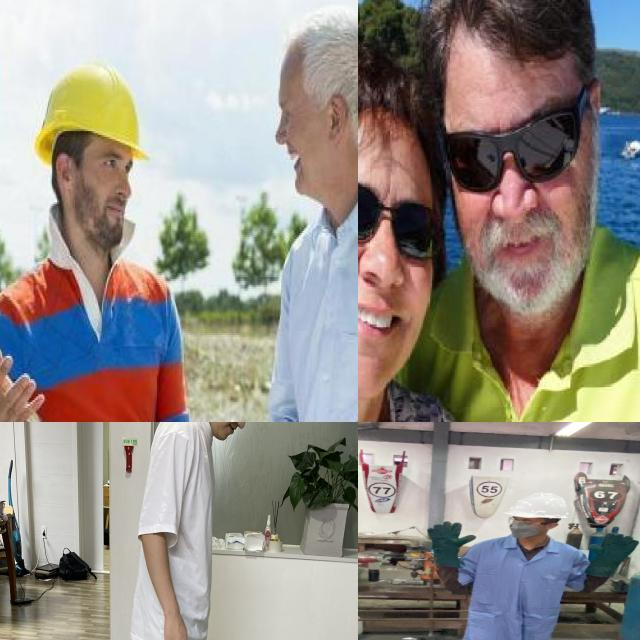No_Ear-Protection: (326, 91, 352, 145), (54, 153, 75, 191)
No_Glasses: (92, 149, 136, 179), (271, 96, 309, 127)
face_mask: (507, 514, 551, 541)
face_nomask: (444, 116, 580, 264), (358, 171, 423, 349), (272, 95, 329, 189), (90, 147, 138, 232)
glasses: (439, 98, 587, 188), (358, 172, 446, 268), (503, 515, 556, 526)
hand_glove: (581, 531, 640, 566), (420, 520, 481, 553)
hand_noglove: (0, 344, 48, 422)
head_helmet: (34, 61, 152, 165), (504, 489, 576, 522)
head_nohelmet: (418, 0, 584, 75), (358, 23, 429, 154), (273, 14, 358, 88)
person: (398, 0, 640, 422), (0, 56, 202, 422), (237, 22, 358, 422), (400, 494, 640, 640), (358, 46, 423, 422)
